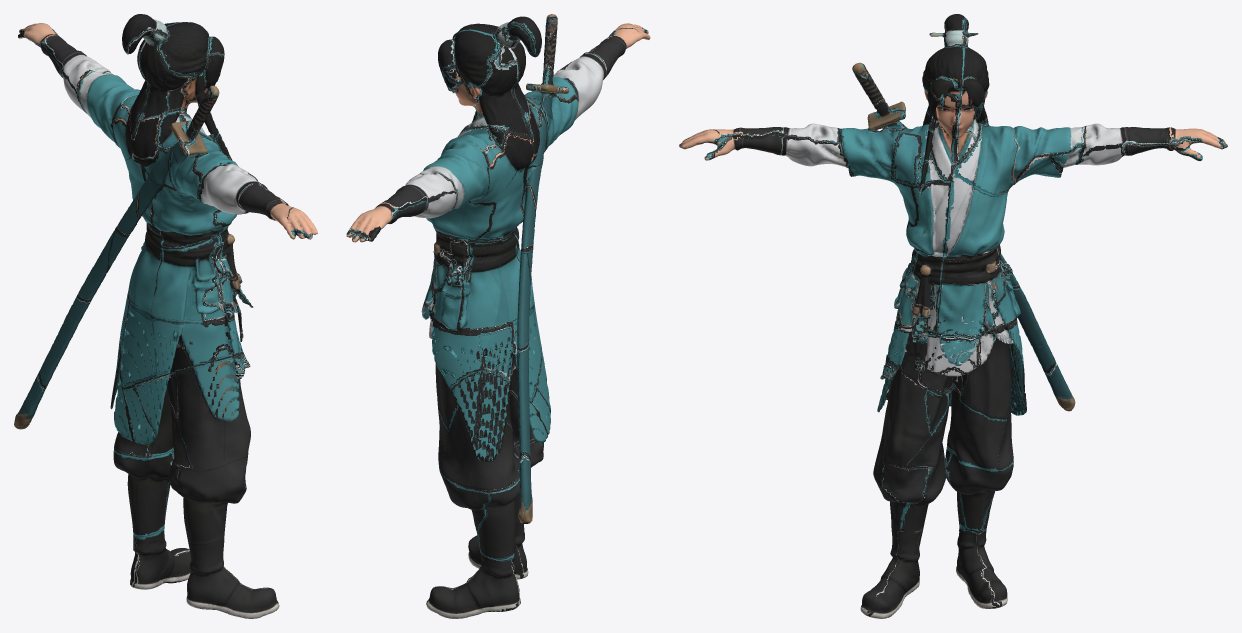
The model's file is avatar-tripo.glb.
The picture shows the model from 3 angles, left to right: view 1: azimuth 30°, elevation 25°; view 2: azimuth 150°, elevation 25°; view 3: azimuth 270°, elevation 25°; orthographic projection. The views are drawn at different scales.
Visible parts, largest first — view 1: avatar; view 2: avatar; view 3: avatar.
Boxes of the visible parts, x1,y1,x2,y2 form: avatar: [14, 14, 317, 618]; avatar: [346, 14, 650, 618]; avatar: [679, 14, 1227, 618].
Size of the model in its own units: 0.2887 by 0.9999 by 0.8835.
Materials: 1 (1 with a texture image).
